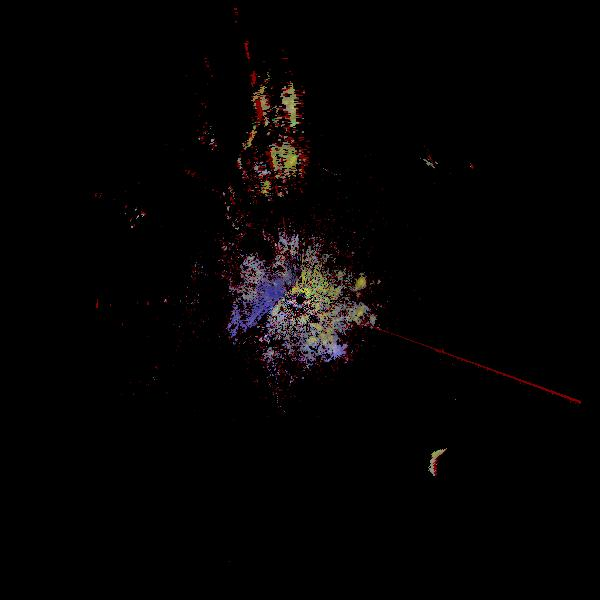roost: (423, 434, 486, 497)
